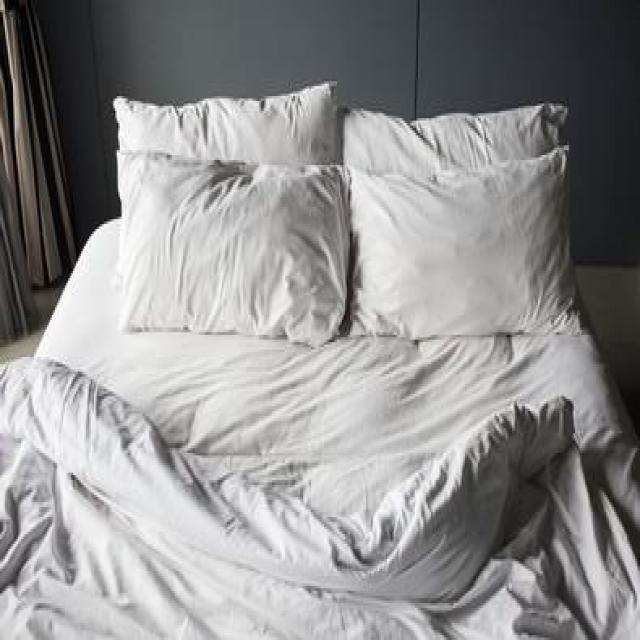bed: (28, 112, 613, 640)
